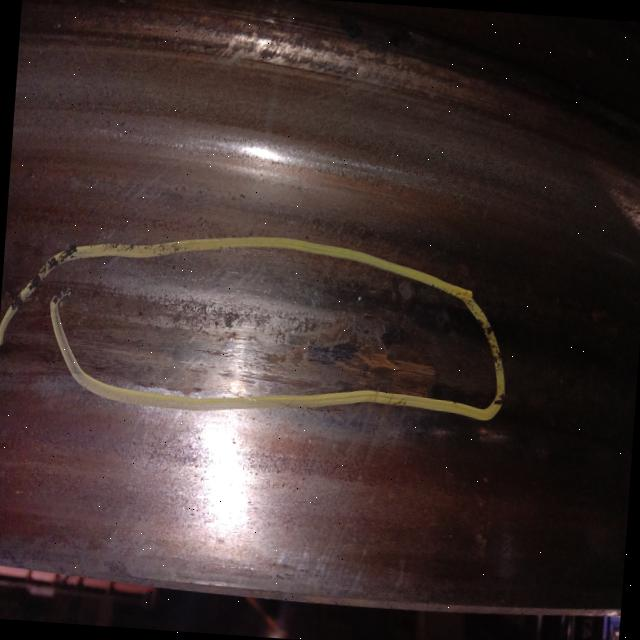flat: (82, 270, 442, 386)
